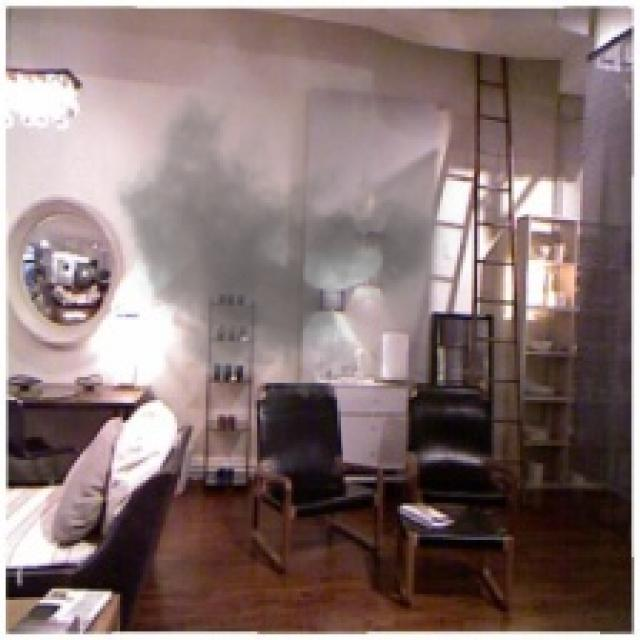smoke: (89, 20, 474, 420)
